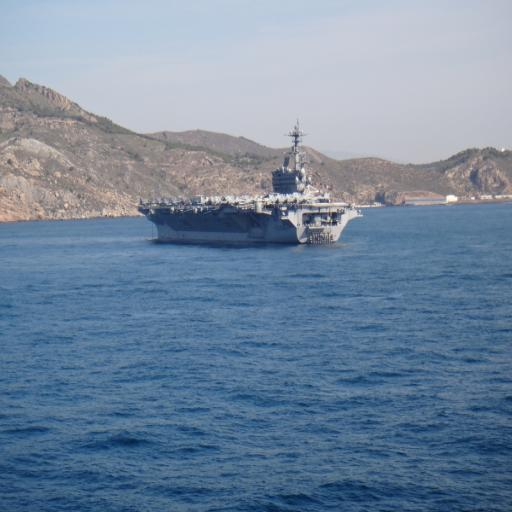Portanaves: (131, 116, 373, 252)
